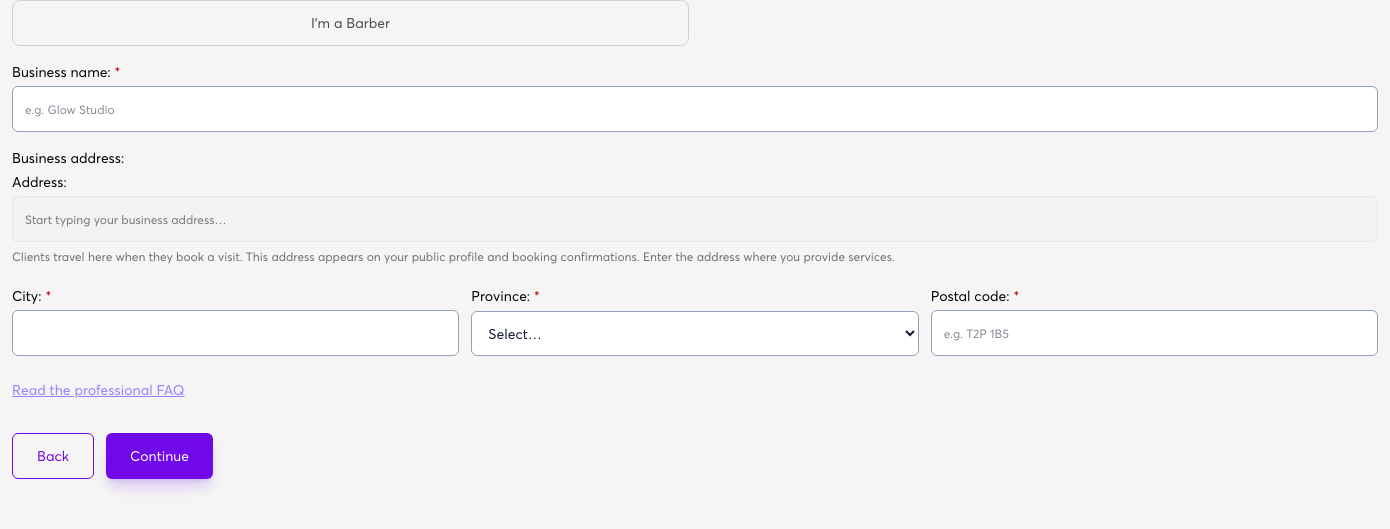
Test: styler signup business details › refuses to continue without an address
Click the radio button labelled "I'm a Barber" at (350, 23), box [12,0,689,46]
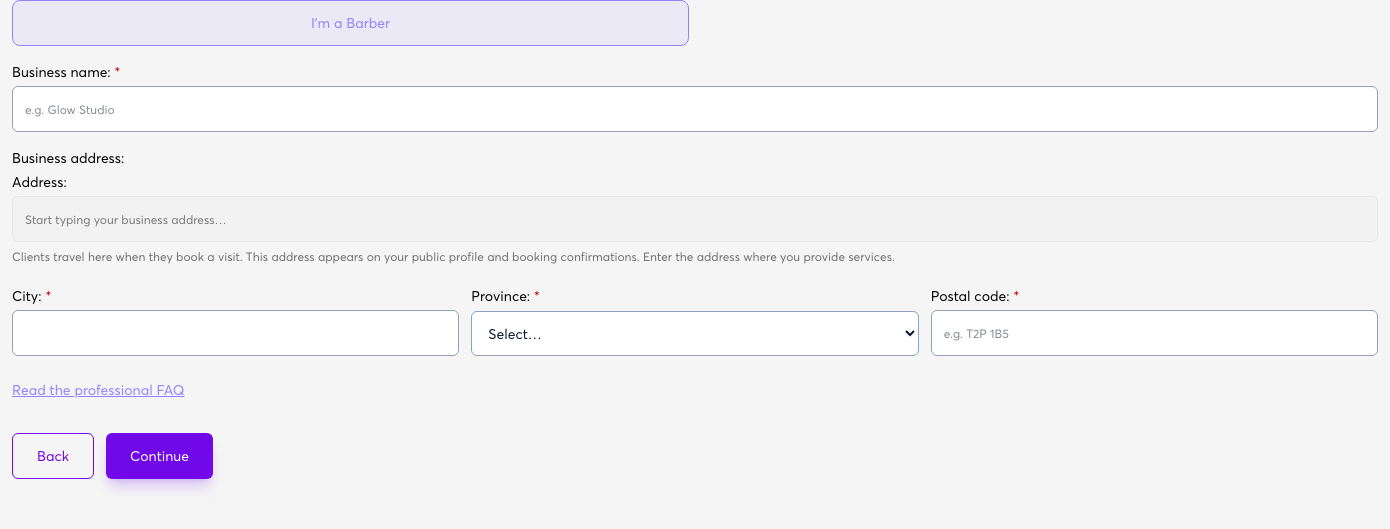
Type "Ada Studio" into the field labelled "Business name:" at (695, 109), box [12,86,1378,132]
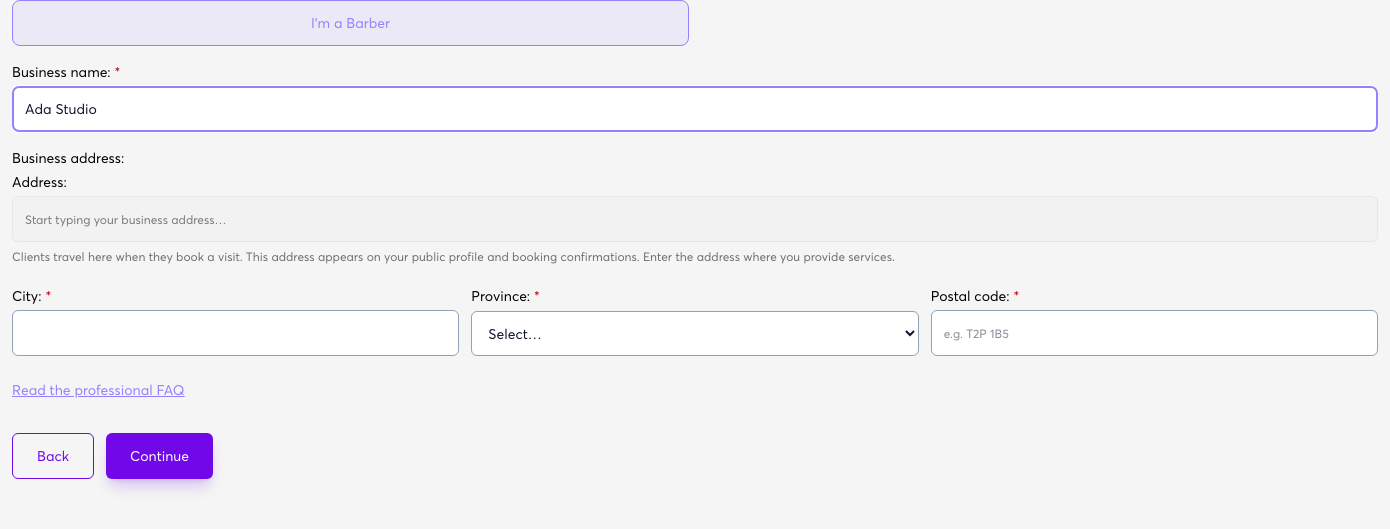
Type "Calgary" into the field labelled "City:" at (236, 333), box [12,310,459,356]
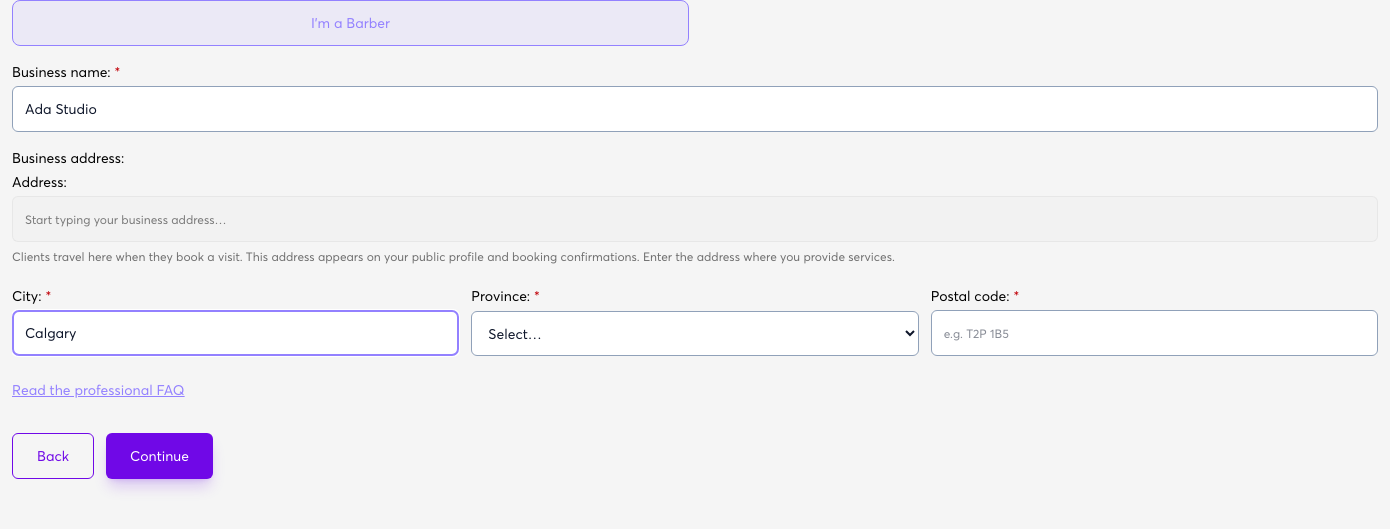
Select "Alberta" in the dropdown named "province" at (695, 333), box [471,310,919,356]
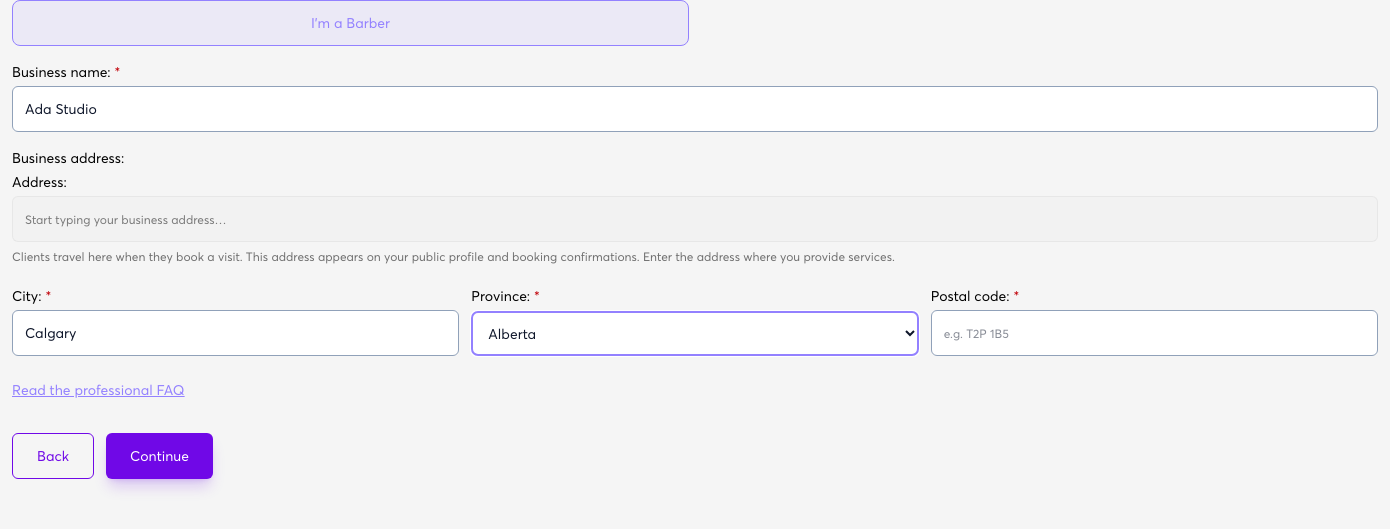
Type "T2P 1J9" into the field labelled "Postal code:" at (1154, 333), box [931,310,1378,356]
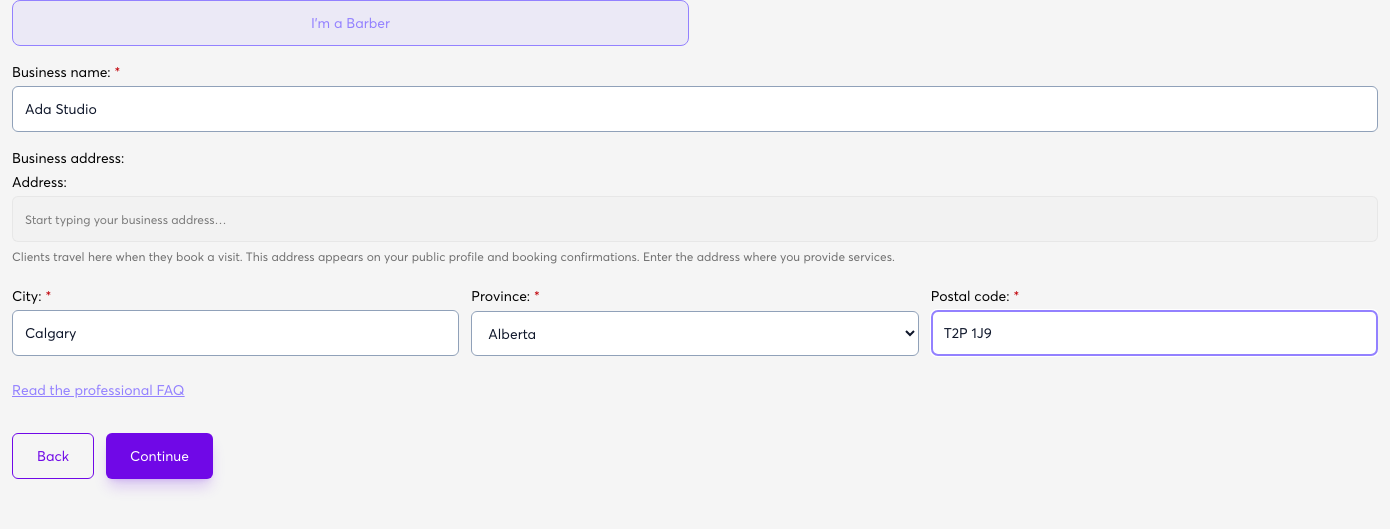
Click the button "Continue" at (160, 456), box [106,432,213,478]
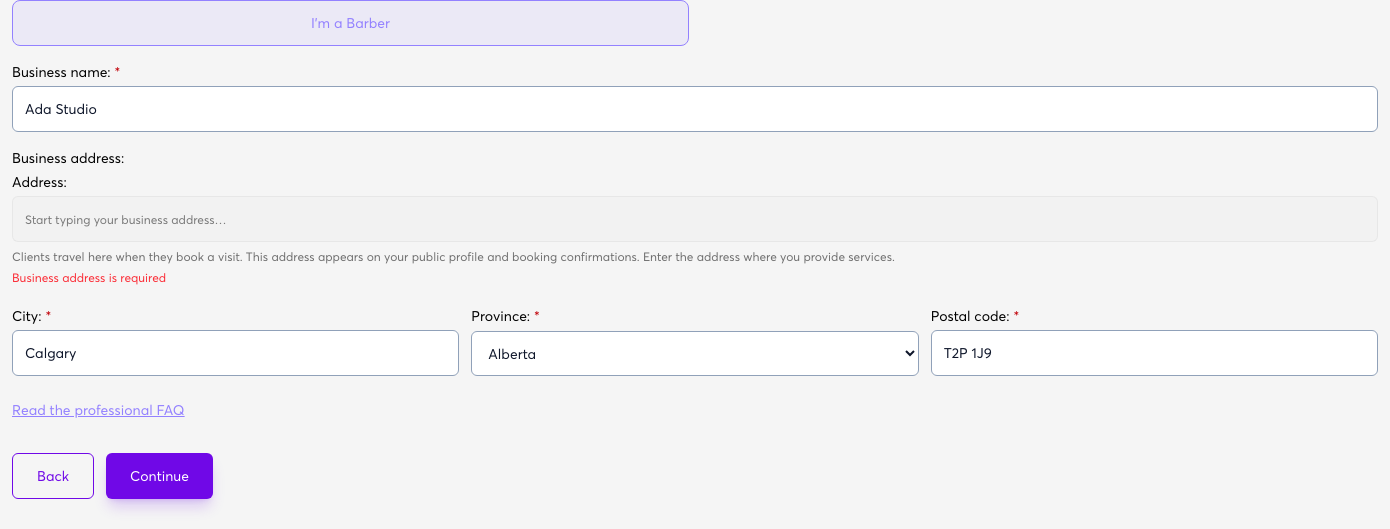
Now the text "Business address is required" is shown, box [12,270,166,285]
